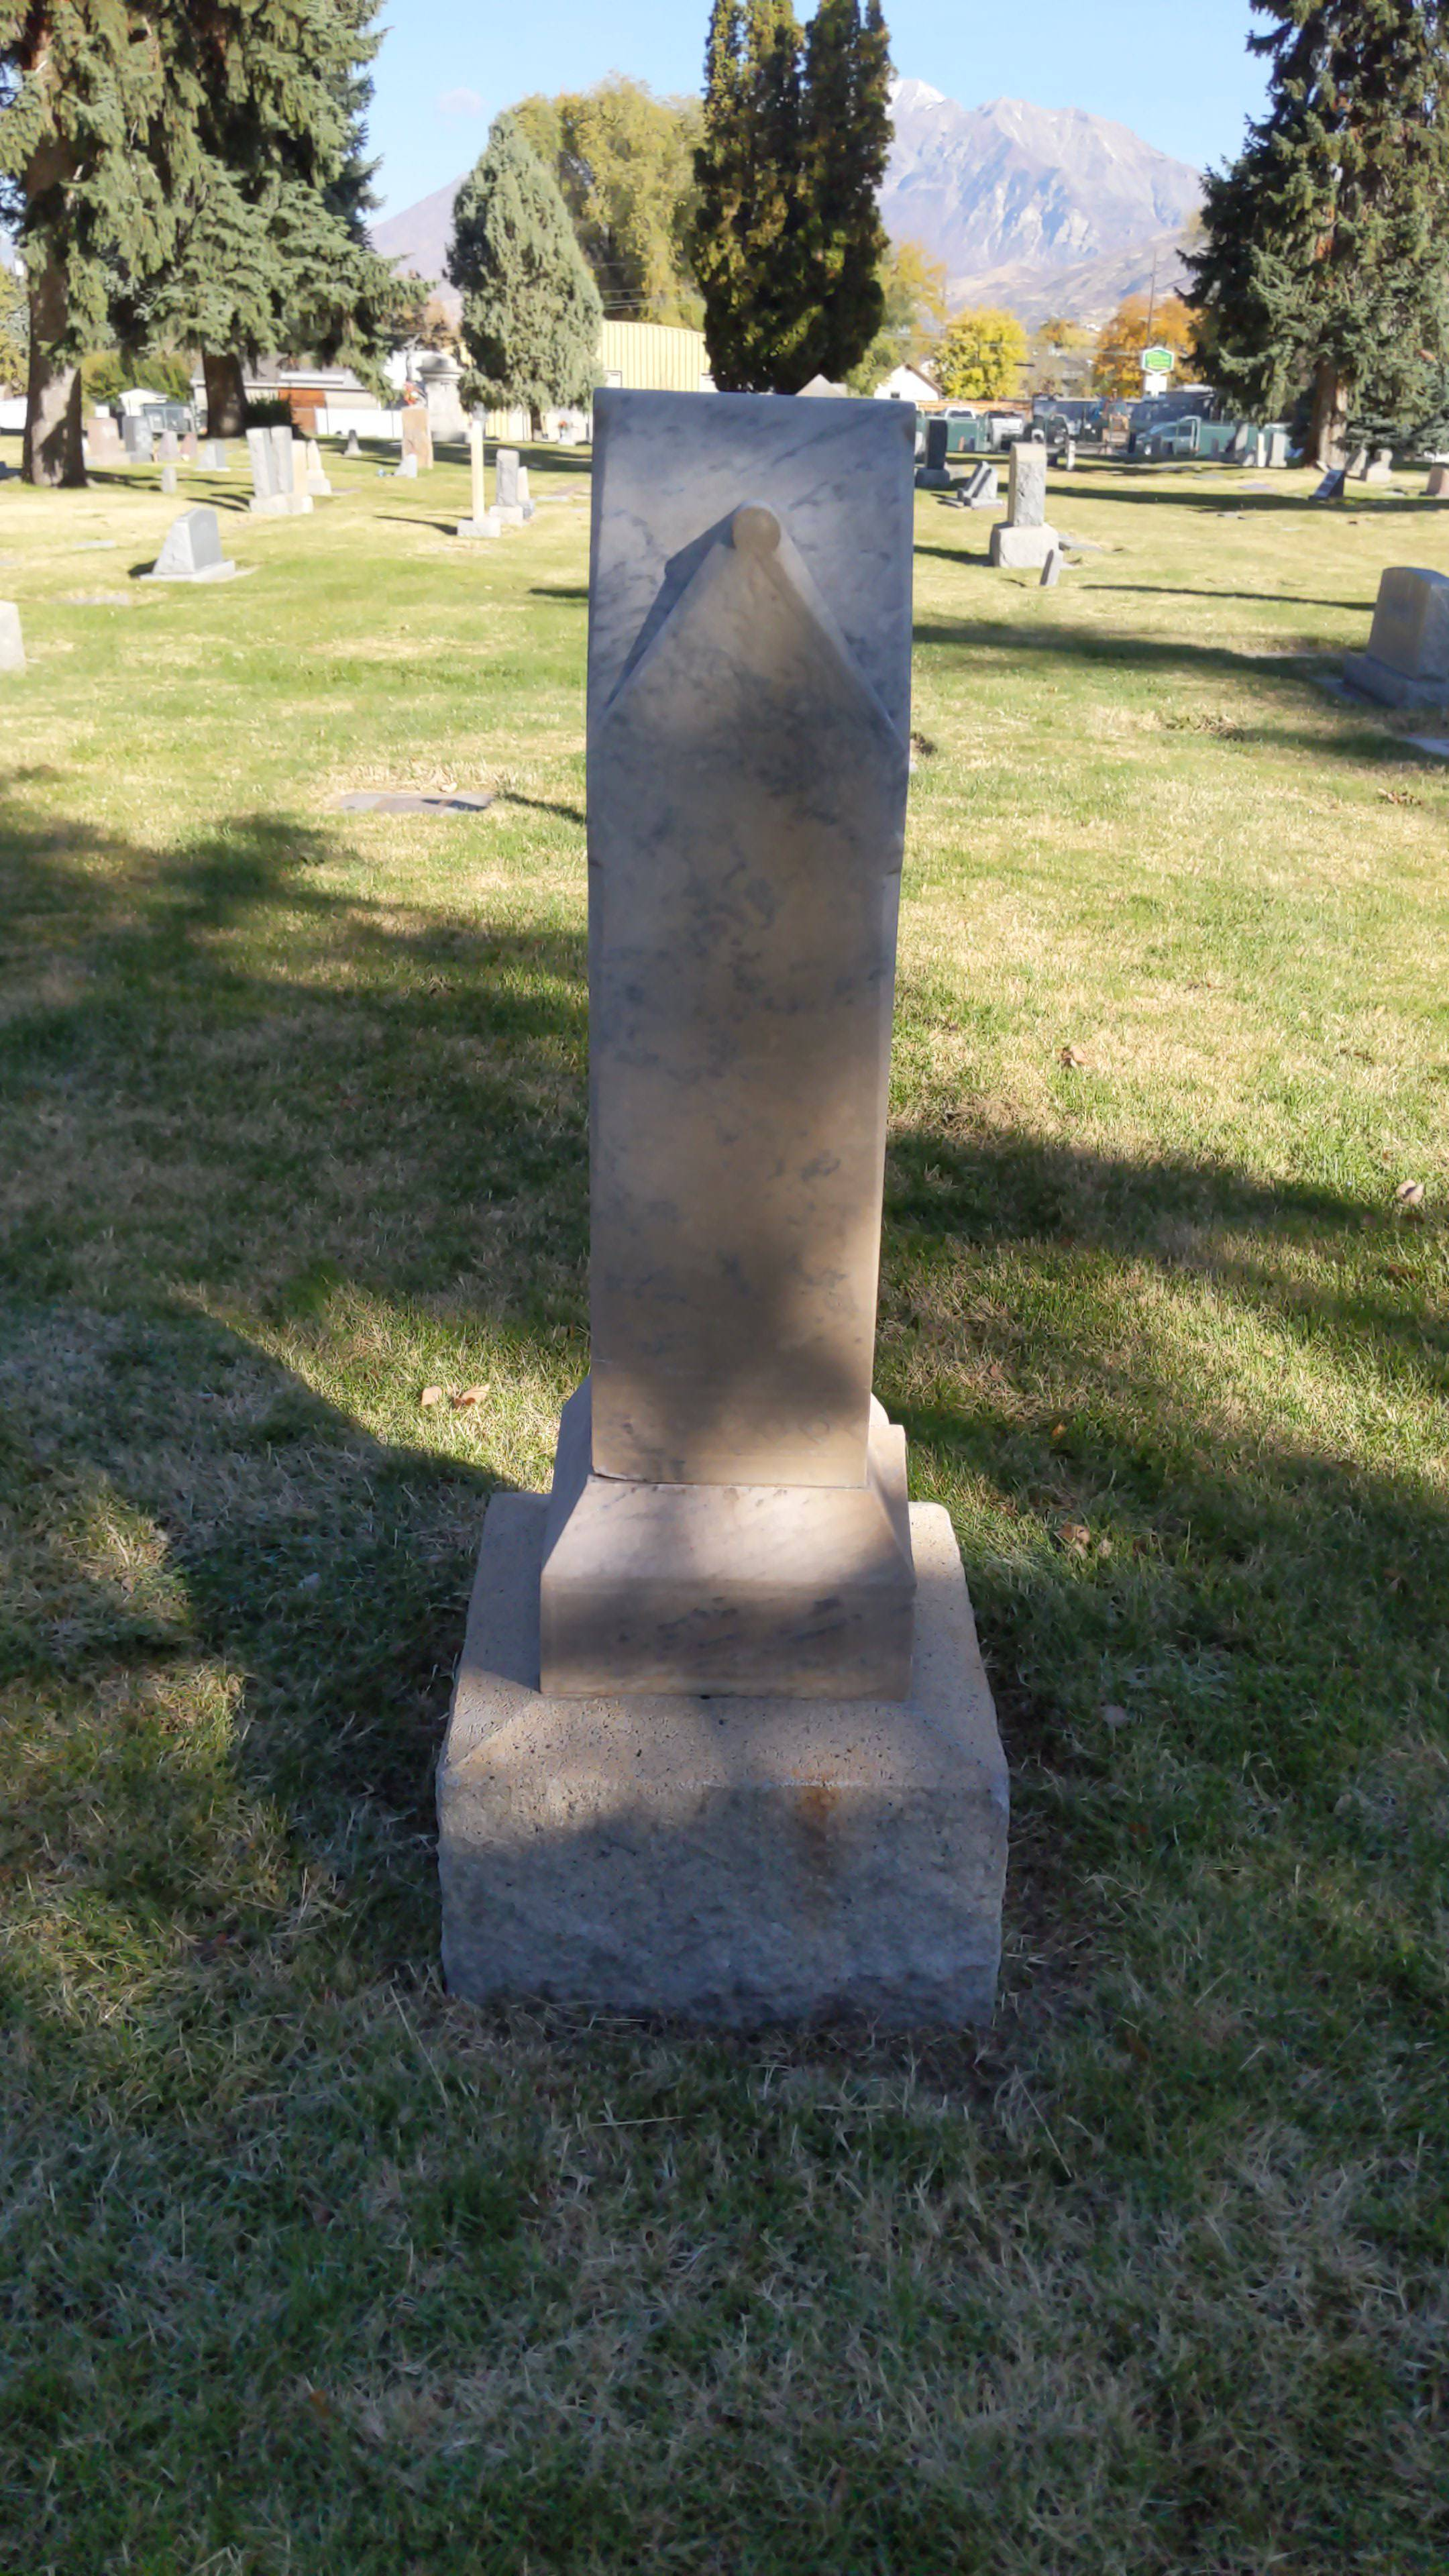obelisk: (513, 393, 913, 1681)
